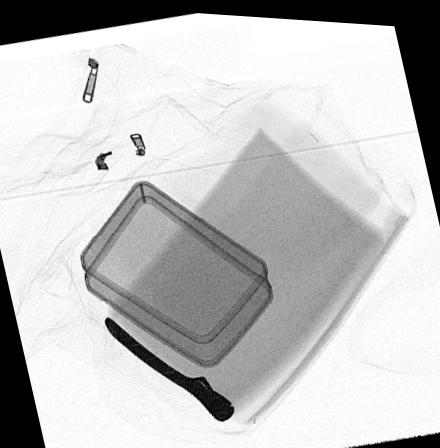Wrench: (104, 315, 237, 421)
